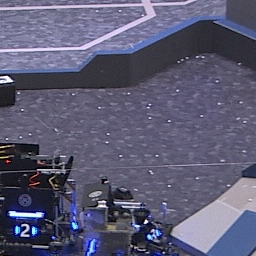Blue: (13, 224, 41, 237)
Robot: (1, 139, 81, 256), (80, 181, 182, 256)
